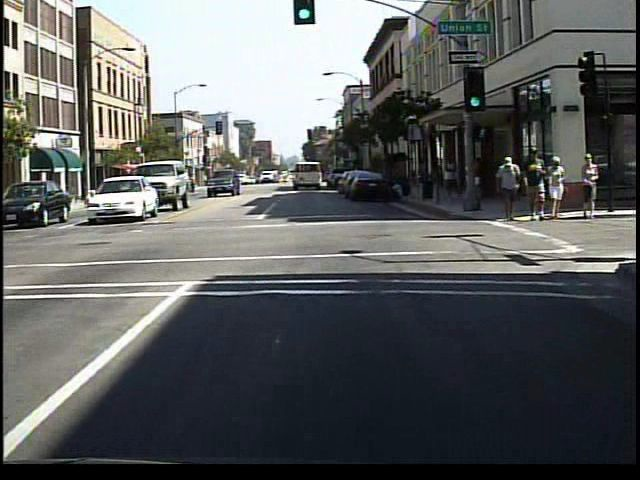person: (493, 150, 528, 227), (523, 147, 550, 226), (575, 149, 602, 224), (545, 156, 568, 226), (439, 153, 461, 205), (186, 172, 203, 200)
